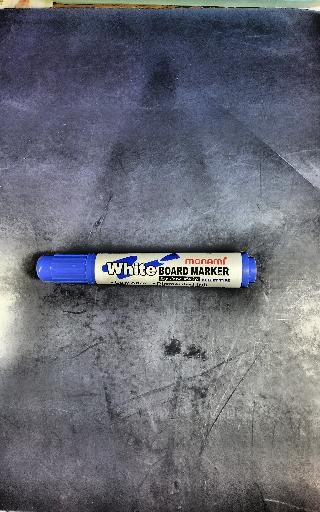marcador azul: (36, 251, 256, 288)
